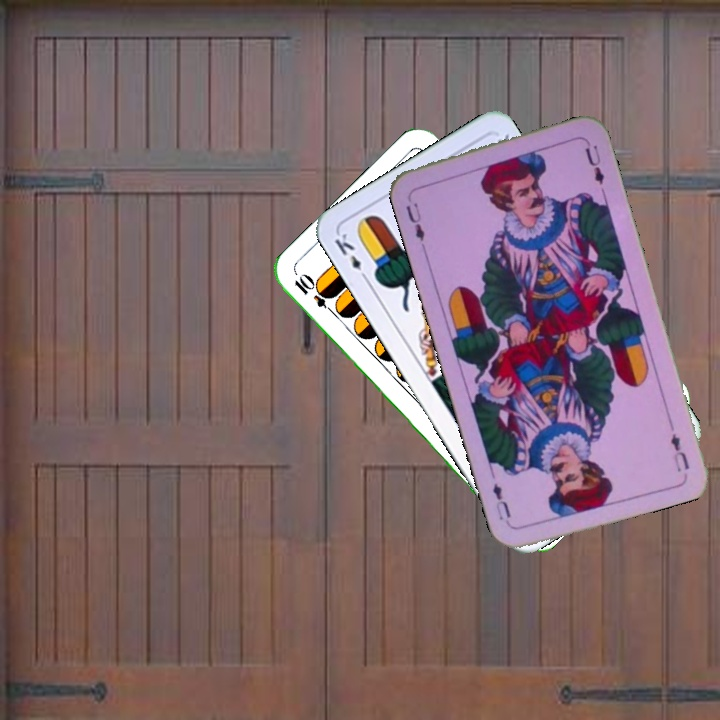E10: (290, 271, 340, 318)
EK: (330, 229, 372, 284)
EU: (402, 198, 428, 250), (666, 430, 692, 474)
